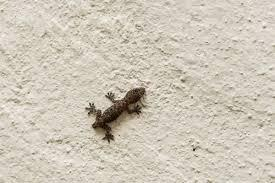lizard: (78, 72, 146, 144)
